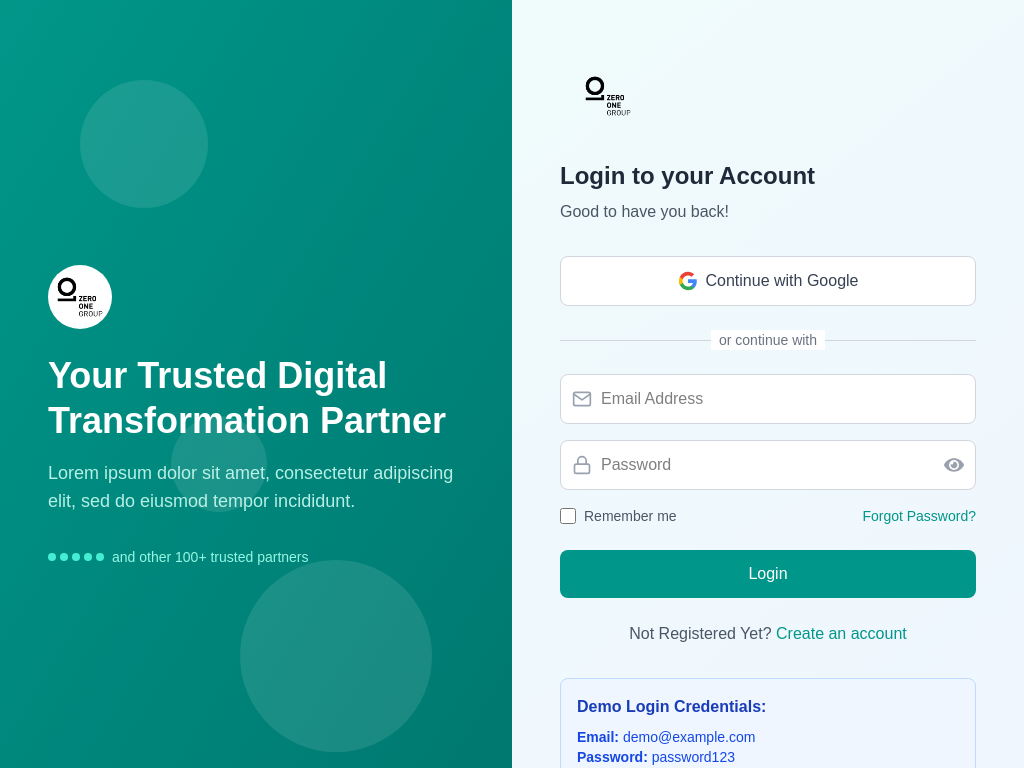
Test: Authentication Flow › should allow valid login with correct credentials
The image size is (1024, 768).
Type "demo@example.com" into the field with placeholder "Email Address".
click(768, 399); type("demo@example.com")  # box [560, 374, 976, 424]
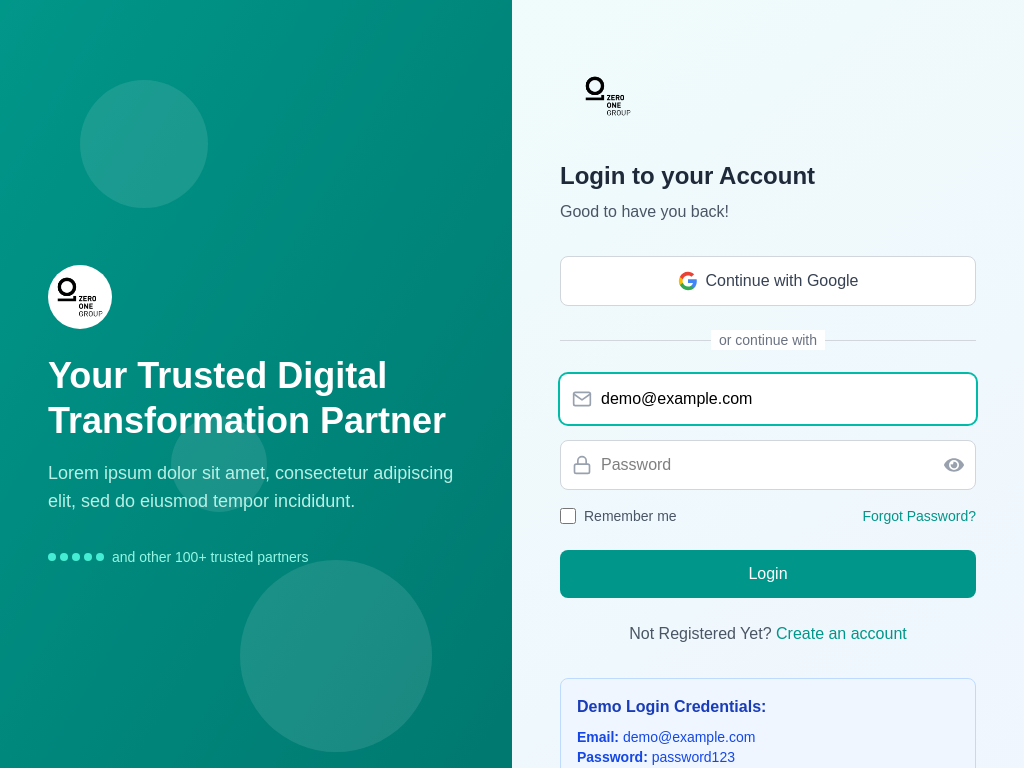
Type "password123" into the password field with placeholder "Password".
click(768, 465); type("password123")  # box [560, 440, 976, 490]
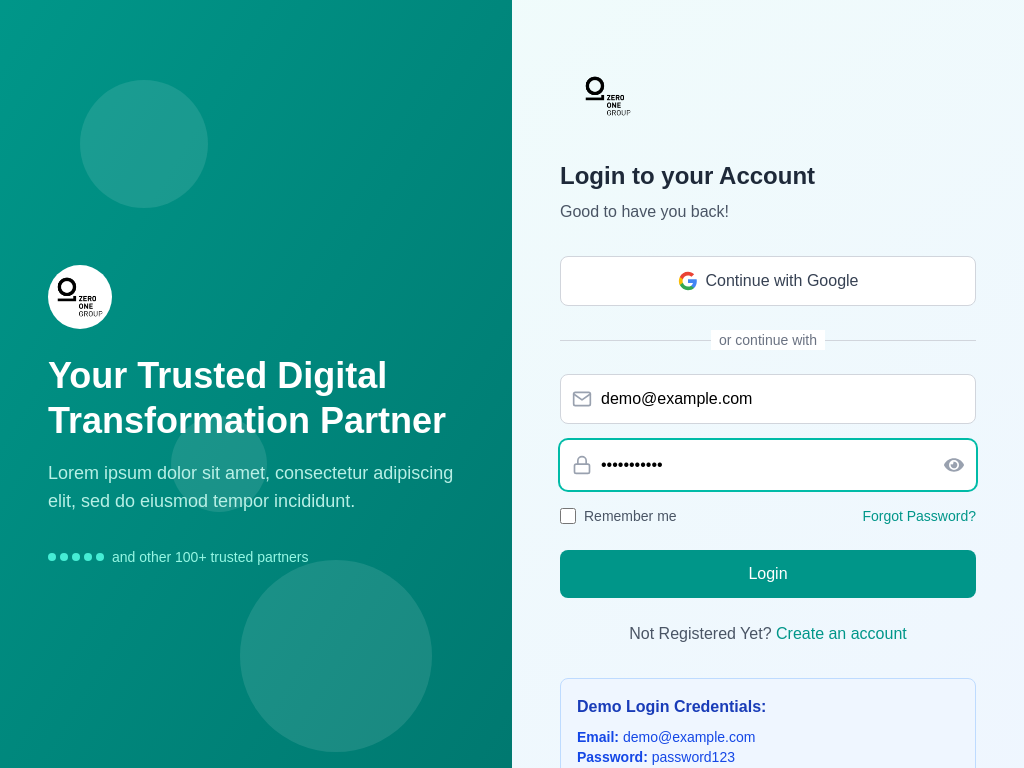
Click the submit button.
click(768, 574)  # box [560, 550, 976, 598]
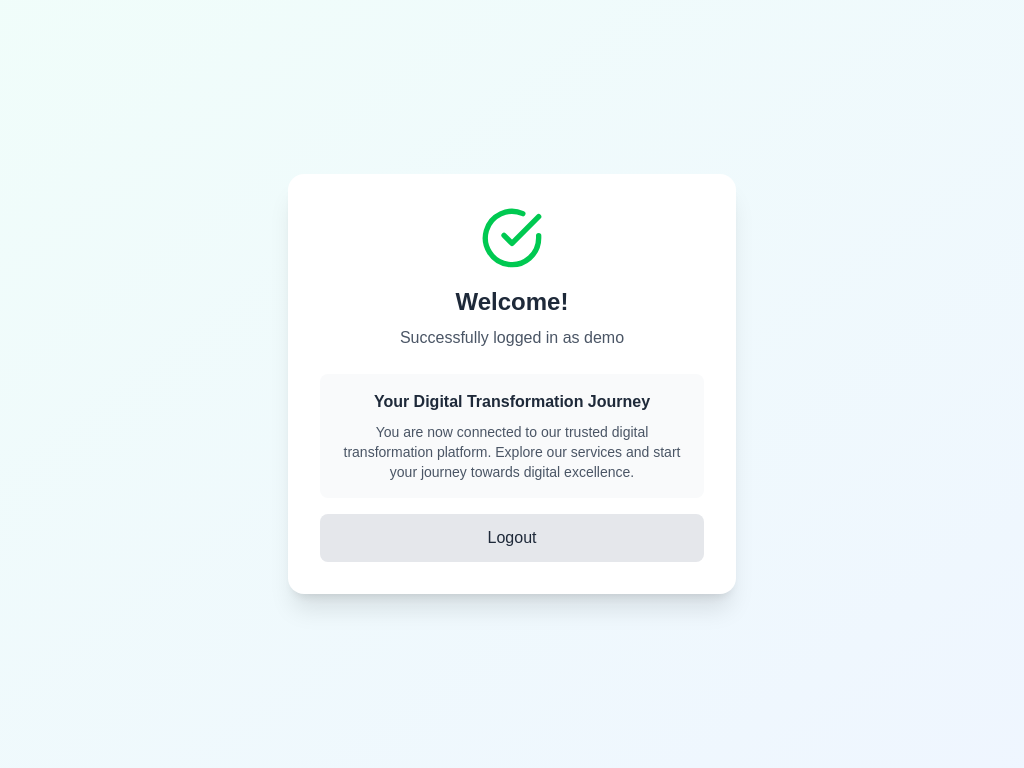
expect the text "Successfully logged in as demo" is shown: met, box [400, 329, 624, 346]
